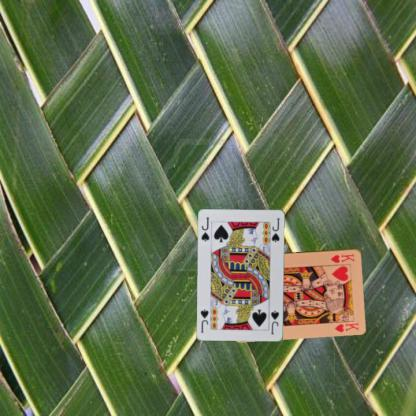Js: (268, 308, 280, 336), (199, 215, 210, 243)
Kh: (328, 251, 356, 264)
